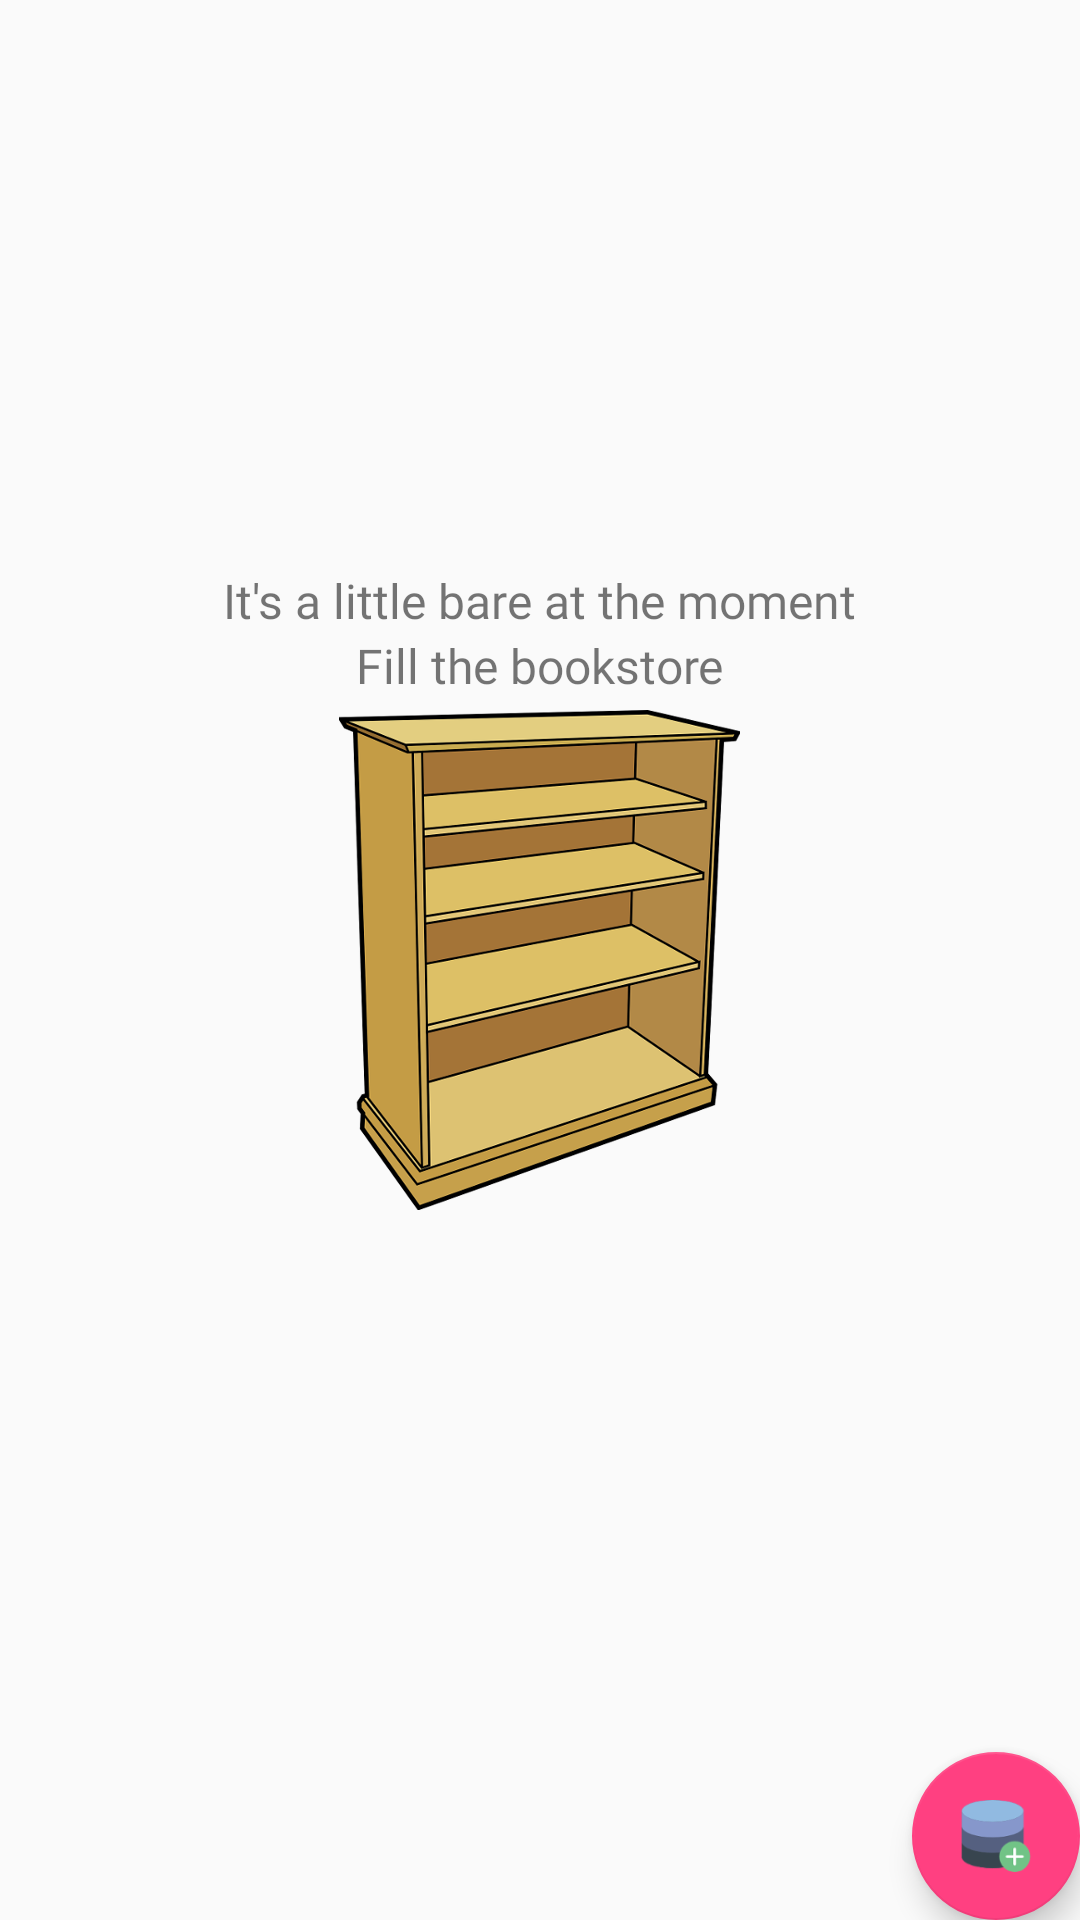

Screen size 1080x1920. Icon name, then its box in pixels as (x1, y1, x2, y2):
add data: (912, 1752, 1080, 1920)
